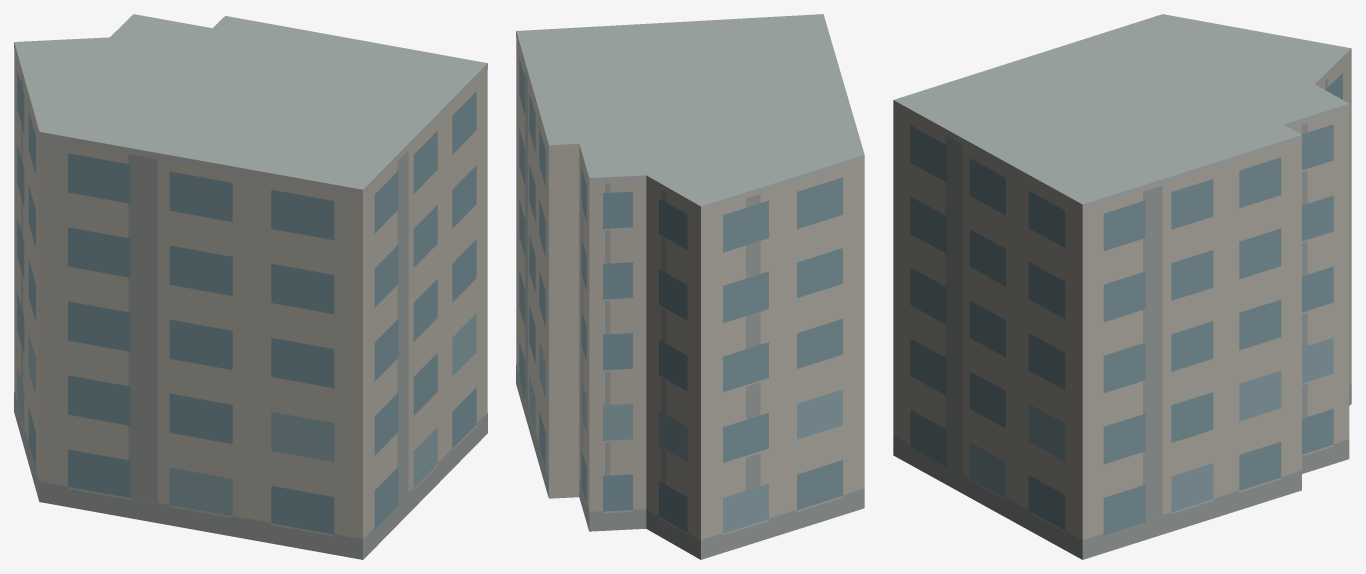
The model's file is survey-upis-32506754.glb.
The picture shows the model from 3 angles, left to right: view 1: azimuth 30°, elevation 25°; view 2: azimuth 150°, elevation 25°; view 3: azimuth 270°, elevation 25°; orthographic projection. The views are drawn at different scales.
Parts seen in each view (by area): view 1: survey-upis-32506754.tmp; view 2: survey-upis-32506754.tmp; view 3: survey-upis-32506754.tmp.
Part boxes in pixels (x1,y1,x2,y2): survey-upis-32506754.tmp: (14, 14, 487, 559); survey-upis-32506754.tmp: (516, 14, 864, 559); survey-upis-32506754.tmp: (893, 14, 1351, 559).
Bounding box in the file's own units: 15.99 × 13.9 × 16.26.
